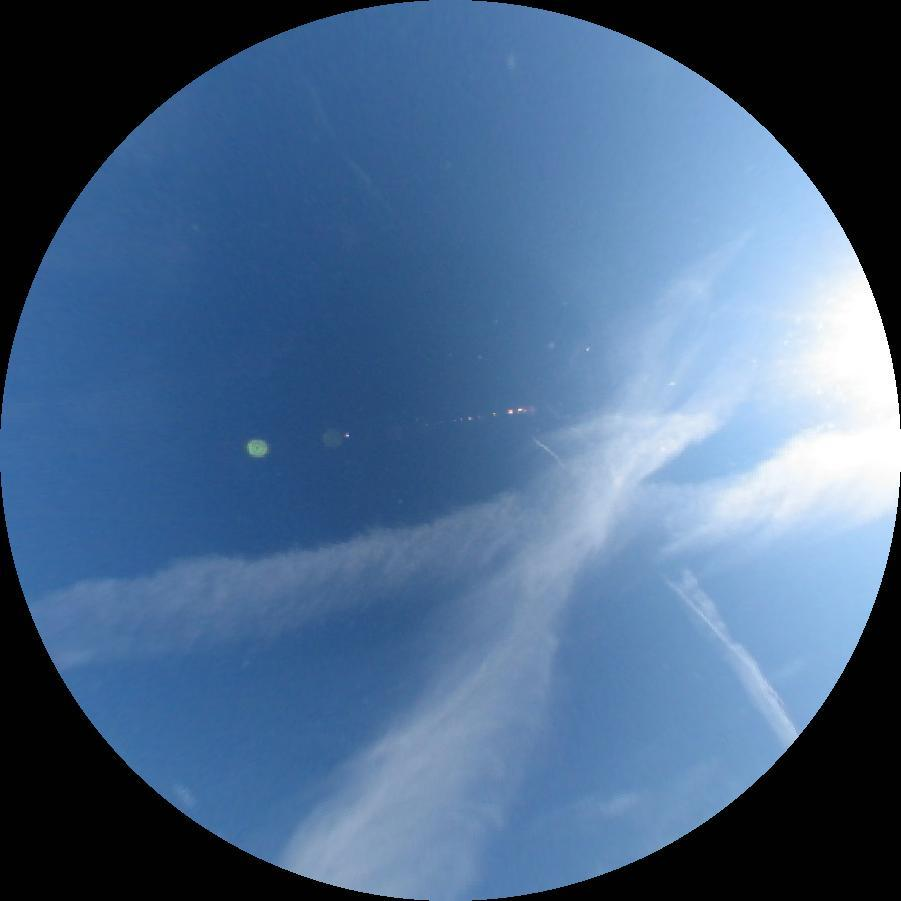contrail old: (530, 434, 738, 657)
contrail veryold: (26, 412, 901, 676), (672, 567, 806, 750)
